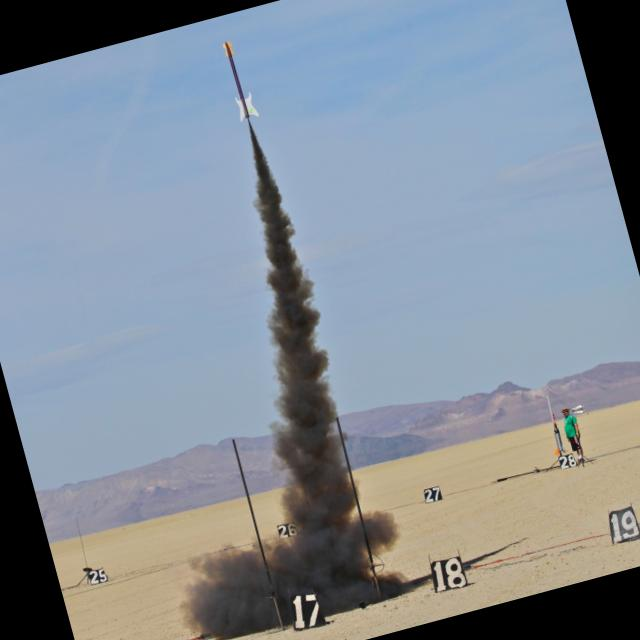rocket: (218, 35, 292, 248)
